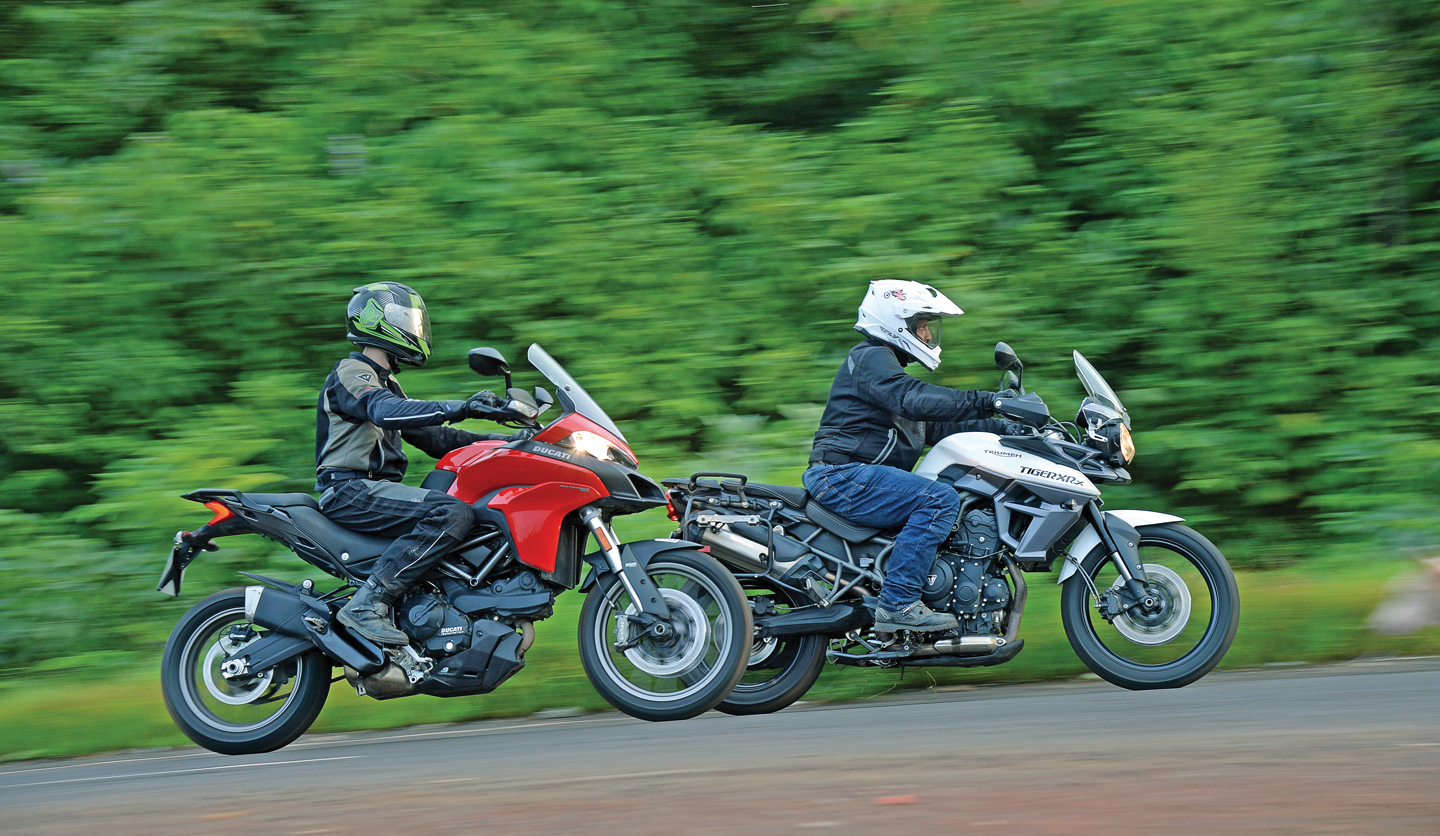motorbike: (106, 413, 751, 776), (667, 360, 1271, 724)
